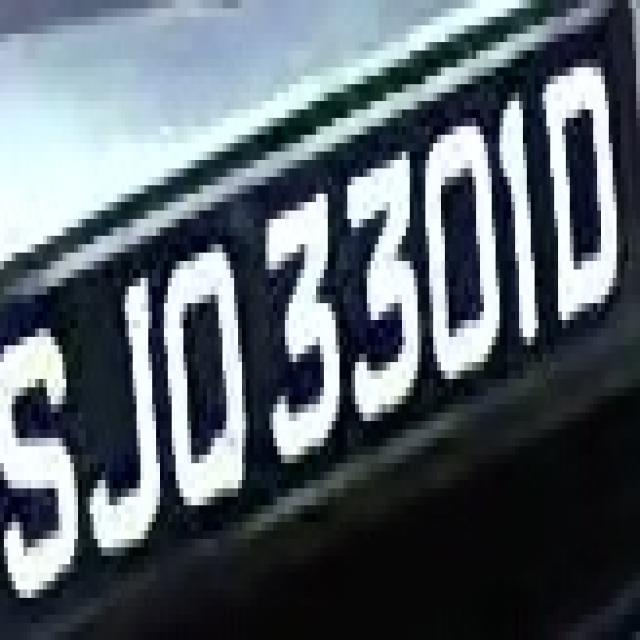0: (418, 92, 503, 396)
1: (496, 59, 550, 387)
3: (250, 168, 336, 472), (336, 143, 414, 463)
D: (531, 42, 624, 337)
J: (74, 227, 164, 556)
Q: (148, 236, 258, 514)
S: (8, 303, 78, 632)
